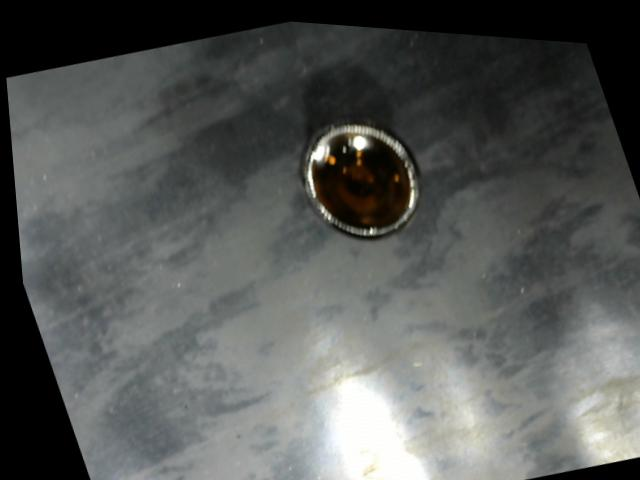glass: (280, 90, 442, 255)
